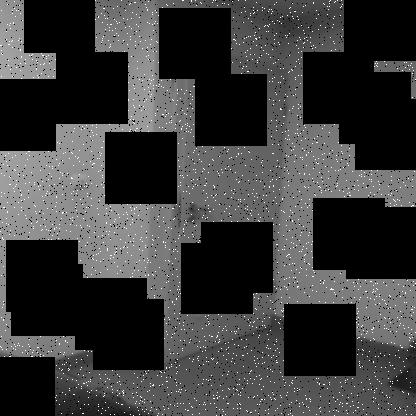Porte: (162, 42, 289, 368)
